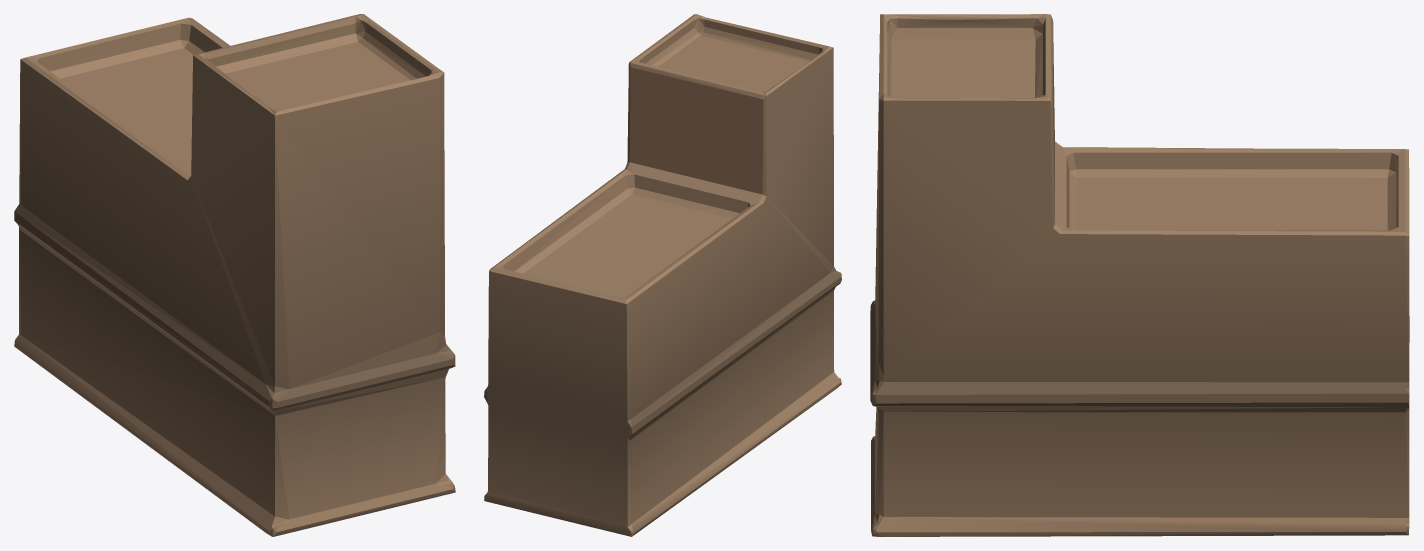
The model's file is Desert Houses(2).glb.
3 views of the same model, side by side, from view 1: azimuth 30°, elevation 25°; view 2: azimuth 150°, elevation 25°; view 3: azimuth 270°, elevation 25° (orthographic). The views are drawn at different scales.
Parts seen in each view (by area): view 1: Root; view 2: Root; view 3: Root.
Boxes of the visible parts, bbox=[...] form: Root: bbox=[14, 14, 455, 536]; Root: bbox=[484, 14, 841, 536]; Root: bbox=[870, 14, 1409, 536].
Bounding box in the file's own units: 4.46 × 9.64 × 10.78.
